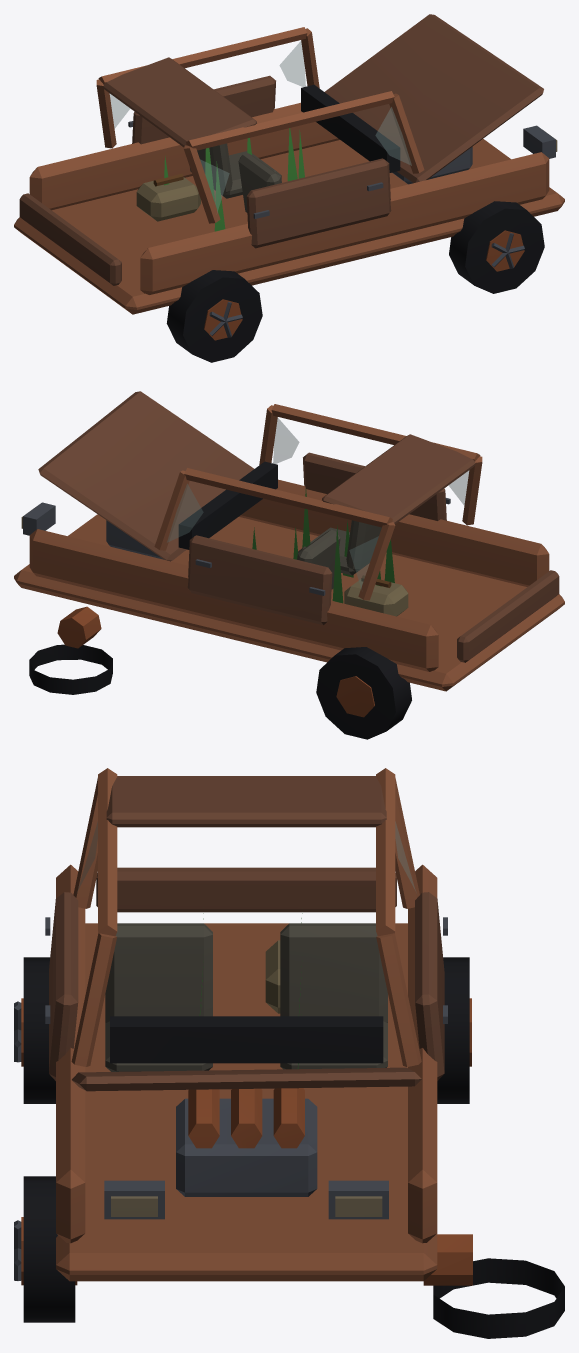
File: wreck_car.glb
3 renders of one model, top to bottom at view 1: azimuth 30°, elevation 25°; view 2: azimuth 150°, elevation 25°; view 3: azimuth 270°, elevation 25°, orthographic. The views are drawn at different scales.
Parts seen in each view (by area): view 1: wreck_car; view 2: wreck_car; view 3: wreck_car.
Boxes of the visible parts, x1=… form: wreck_car: x1=14, y1=14, x2=564, y2=362; wreck_car: x1=14, y1=391, x2=564, y2=739; wreck_car: x1=14, y1=768, x2=564, y2=1338.
Bounding box in the file's own units: 3.68 × 1.62 × 2.46.
